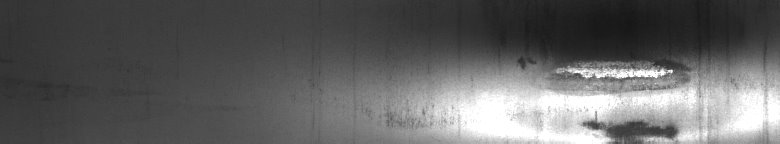ke: (518, 56, 697, 136)
